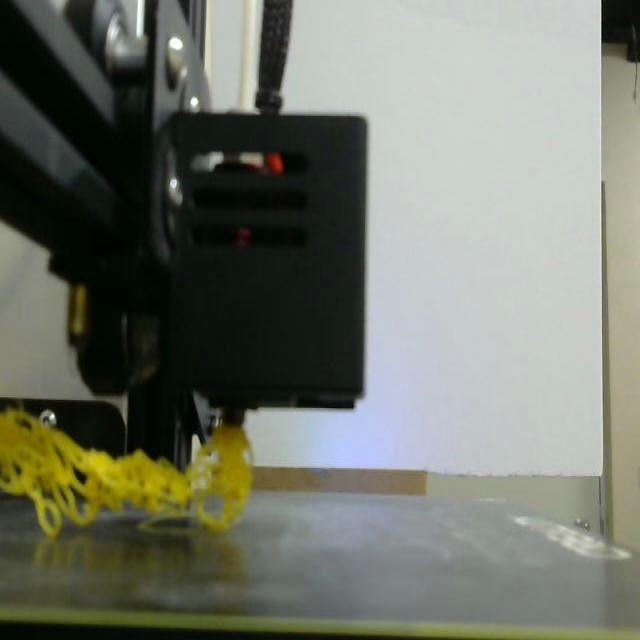spaghetti: (0, 412, 251, 538)
